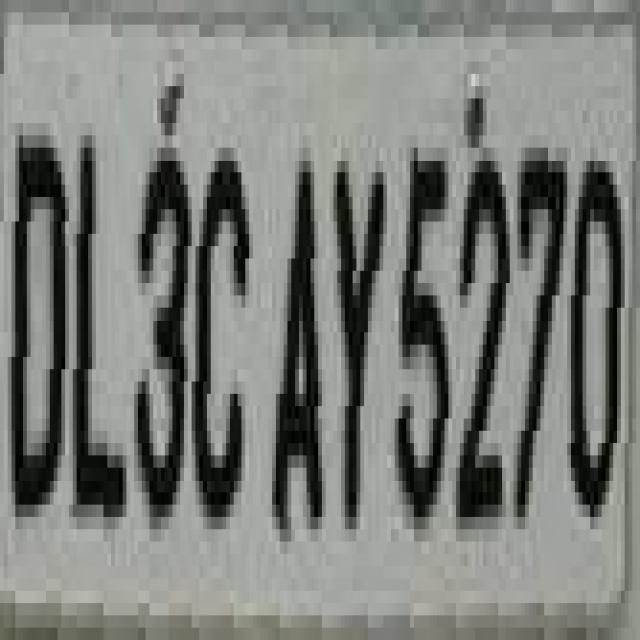license_plate: (4, 12, 605, 616)
